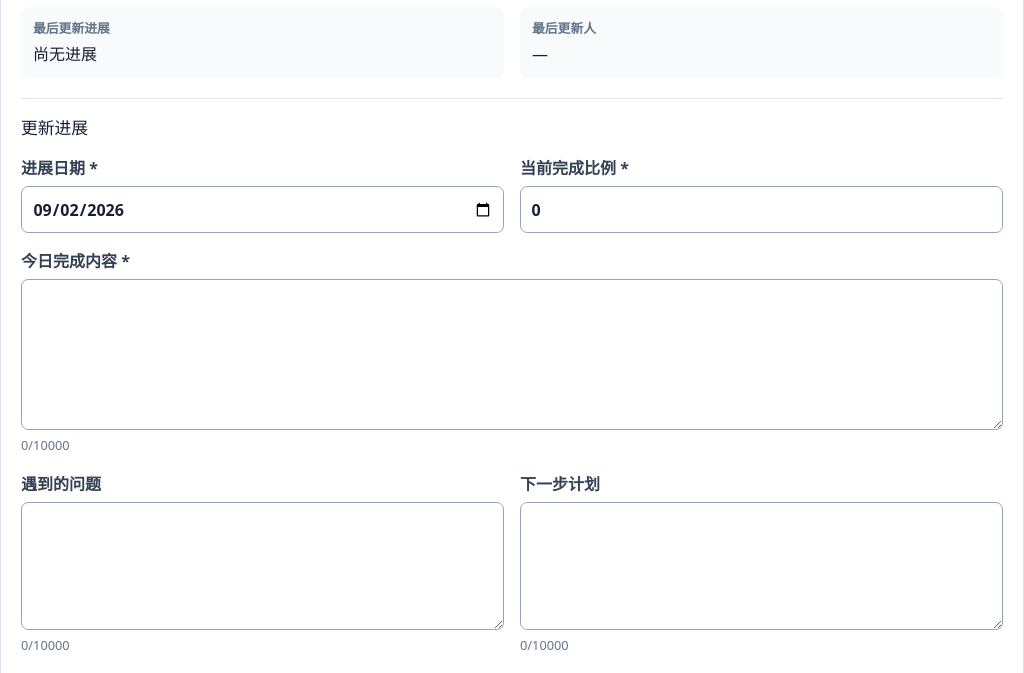
任务页面 › 进展网络重试保留 key，非重试错误后生成新业务意图 key
(page scrolled)
Type "Retry work" into the text box labelled "今日完成内容 *". click: (512, 355)
box: [21,279,1003,430]
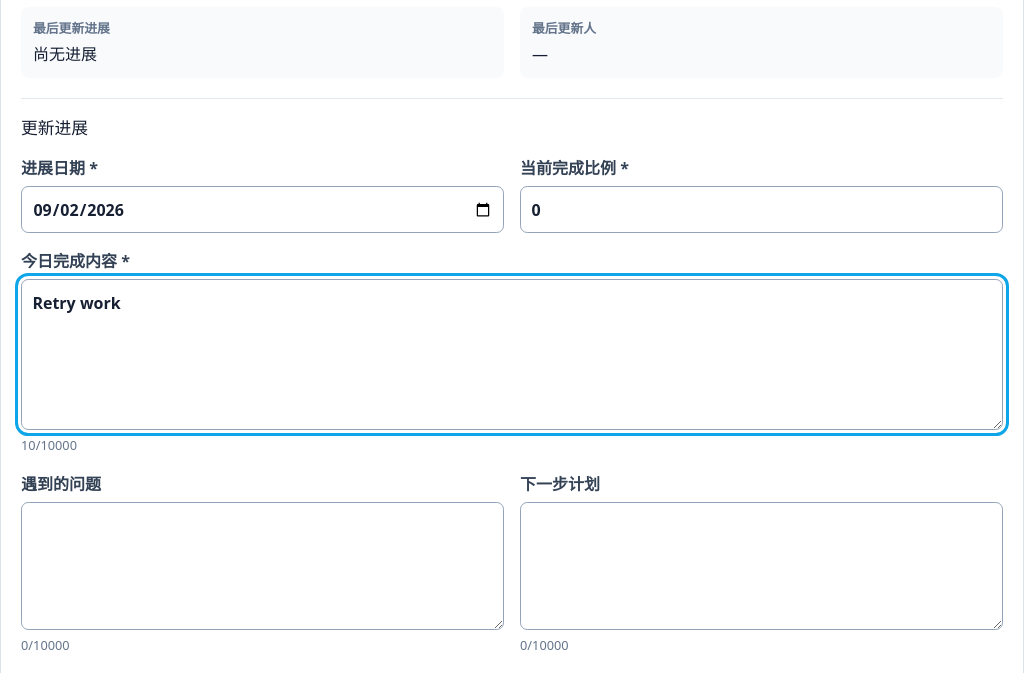
Replace the text in the number field labelled "当前完成比例 *" with "40". click: (762, 210)
box: [520,186,1003,233]
(page scrolled)
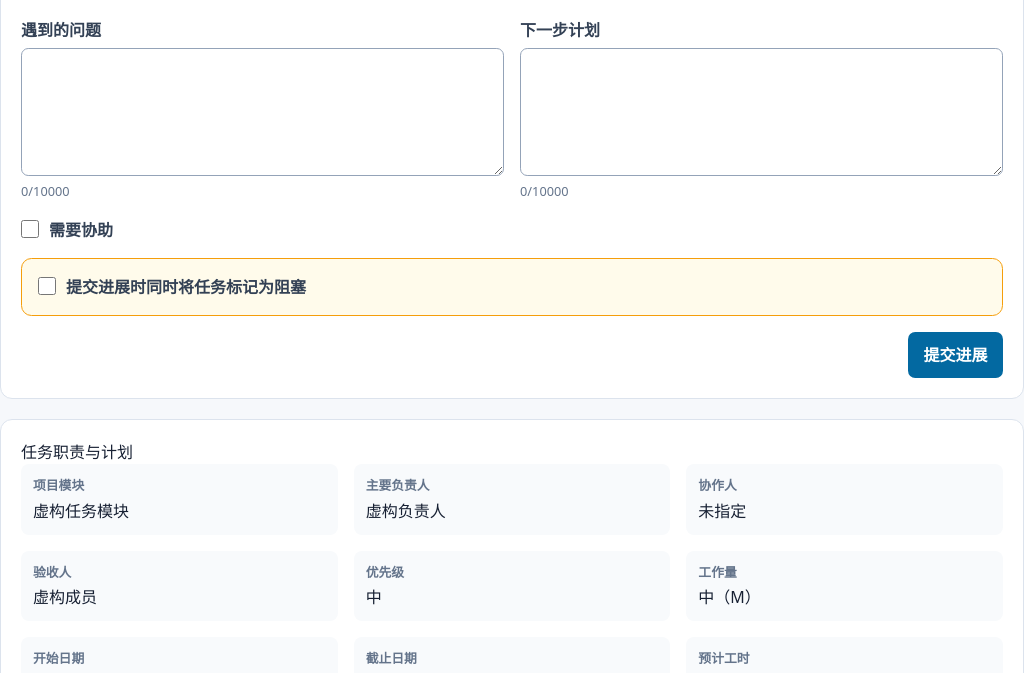
Click the button "提交进展". click: (956, 355)
box: [908,332,1003,378]
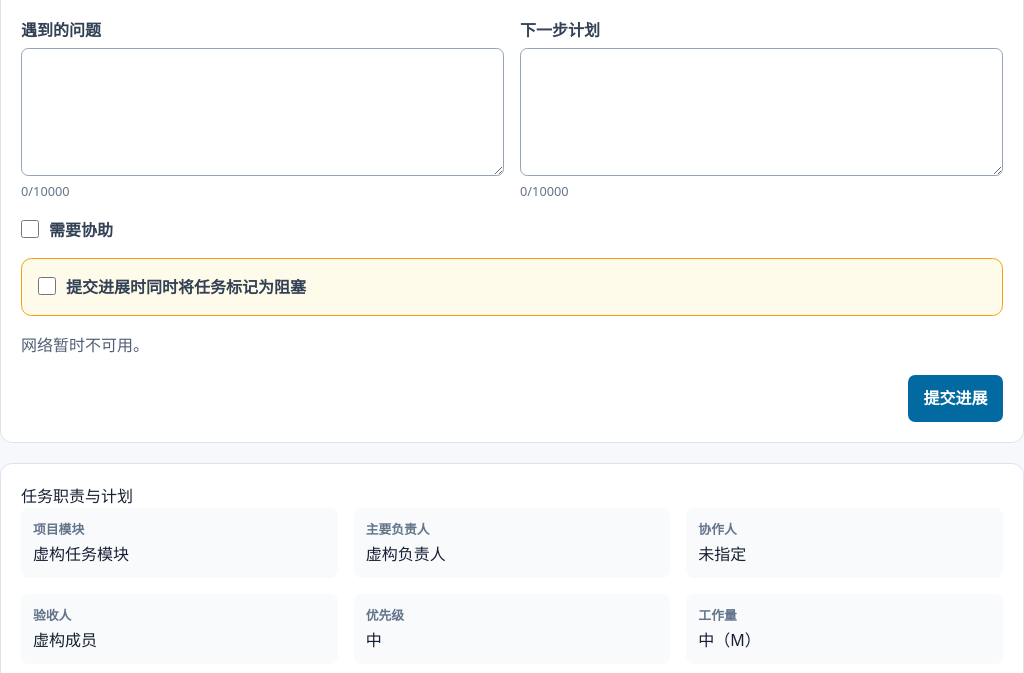
Result: the message reads "网络暂时不可用。" at [21,334,149,356]
Click the button "提交进展". click: (956, 398)
box: [908,375,1003,422]
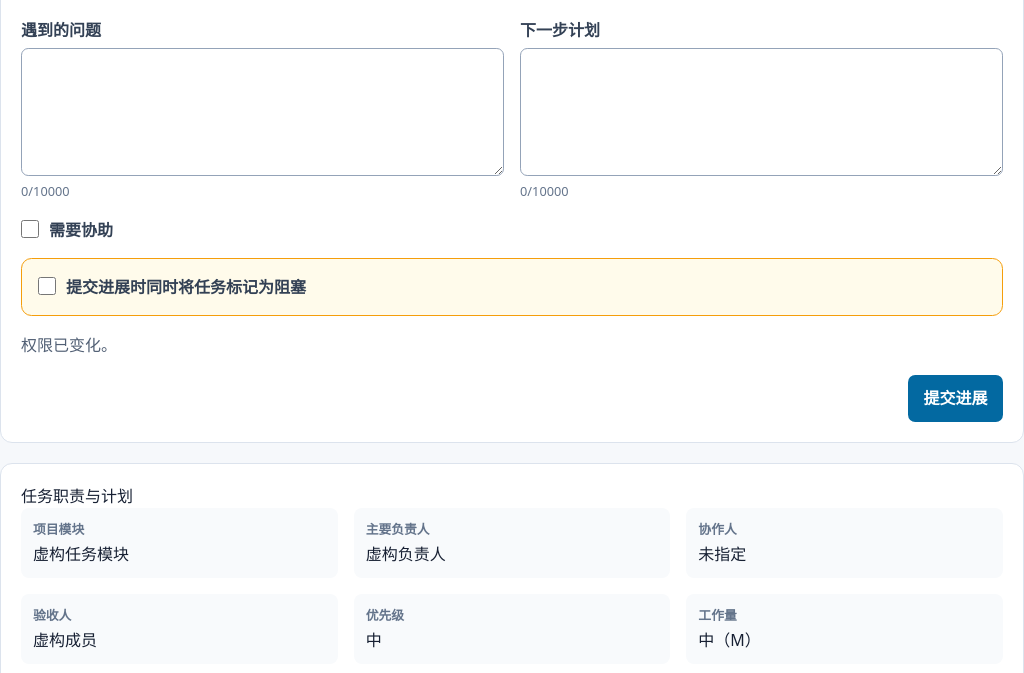
Result: the message reads "权限已变化。" at [21,334,117,356]
Click the button "提交进展". click: (956, 398)
box: [908,375,1003,422]
(page scrolled)
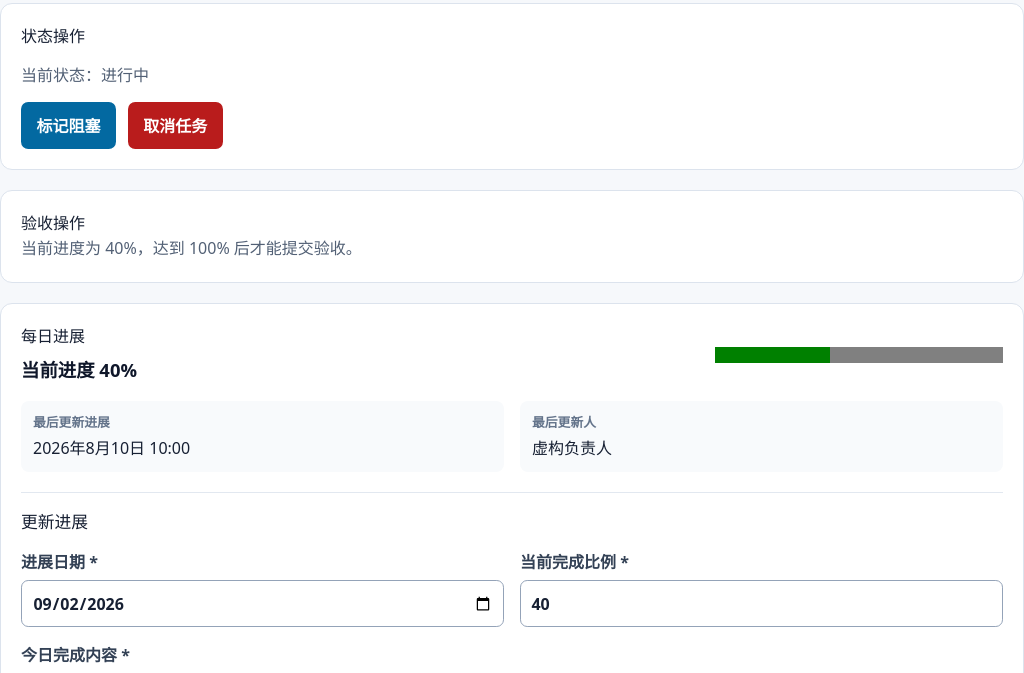
Result: the progress indicator named "当前任务进度 40%" is shown at [715,347,1003,363]
